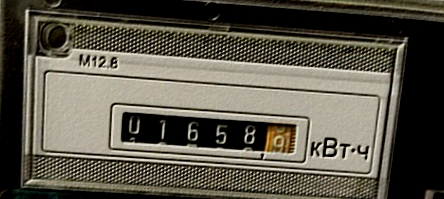0: (127, 114, 141, 137)
1: (157, 119, 168, 141)
5: (213, 123, 229, 147)
6: (185, 121, 200, 143)
8: (242, 124, 257, 146)
9: (269, 134, 284, 156)
screen: (102, 98, 317, 170)
